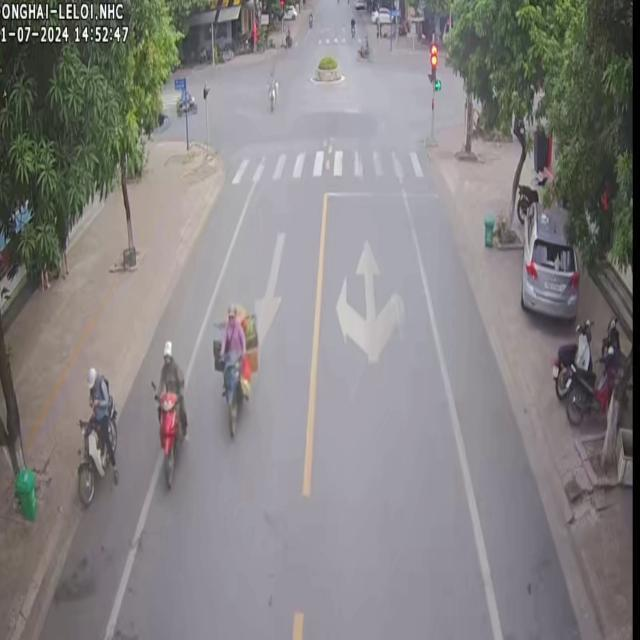car: (519, 200, 578, 317)
motobike: (212, 302, 257, 436), (76, 365, 117, 505), (153, 340, 186, 487), (564, 345, 620, 422), (550, 318, 590, 398), (266, 65, 277, 111)
red_light: (428, 46, 438, 80)
stop_line: (324, 190, 438, 197)
